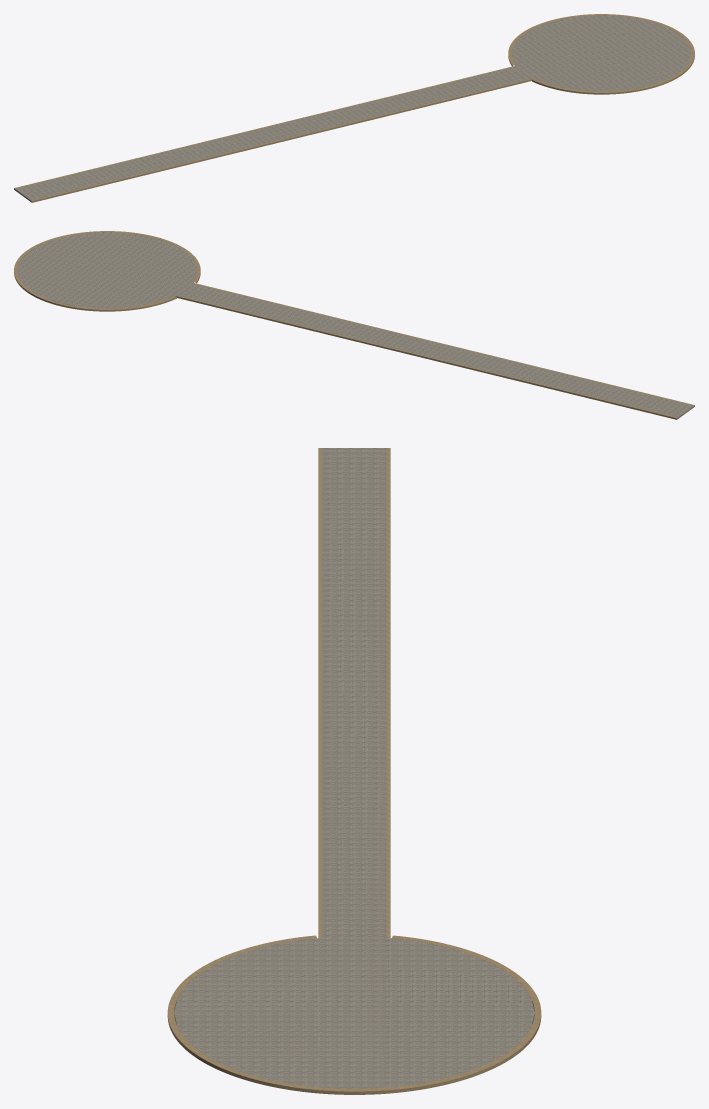
The model's file is city_paving.glb.
3 views of the same model, one above another, from view 1: azimuth 30°, elevation 25°; view 2: azimuth 150°, elevation 25°; view 3: azimuth 270°, elevation 25° (orthographic). The views are drawn at different scales.
Visible parts, largest first — view 1: city_paving; view 2: city_paving; view 3: city_paving.
Boxes of the visible parts, x1,y1,x2,y2 form: city_paving: (14,14,694,202); city_paving: (14,231,694,419); city_paving: (167,448,541,1094).
Bounding box in the file's own units: 254 × 0.612 × 62.2.
Materials: 2 (2 with a texture image).
